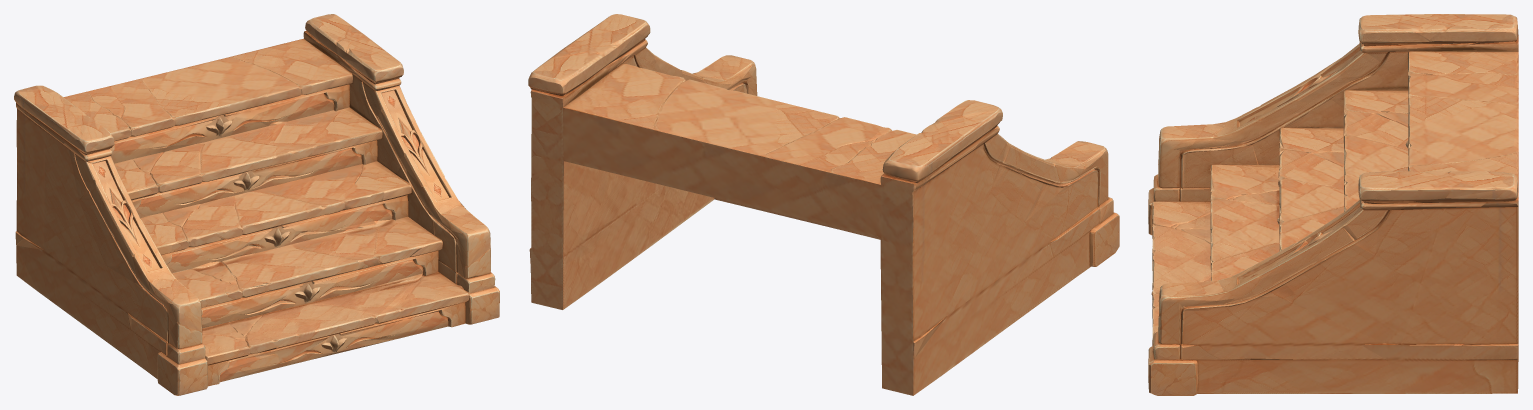
File: iso-steps.glb
The picture shows the model from 3 angles, left to right: view 1: azimuth 30°, elevation 25°; view 2: azimuth 150°, elevation 25°; view 3: azimuth 270°, elevation 25°; orthographic projection. The views are drawn at different scales.
Parts seen in each view (by area): view 1: Mesh_0; view 2: Mesh_0; view 3: Mesh_0.
Part boxes in pixels (<box>): Mesh_0: <box>14,14,499,395</box>; Mesh_0: <box>528,14,1119,395</box>; Mesh_0: <box>1148,14,1518,395</box>.
Bounding box in the file's own units: 1.9 × 1.06 × 1.7.
Materials: 1 (1 with a texture image).
